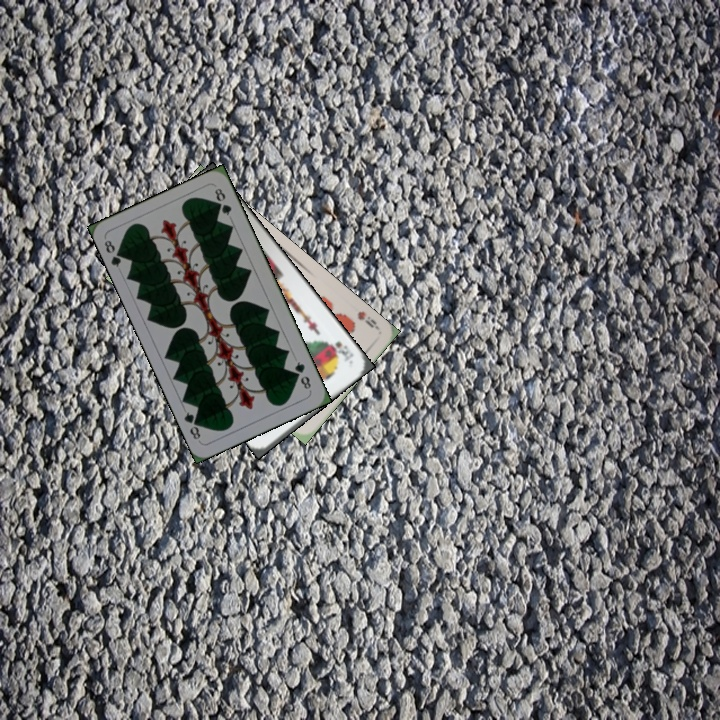G8: (100, 236, 128, 270), (290, 357, 314, 392)
H9: (353, 307, 381, 332)
SK: (327, 337, 356, 364)
